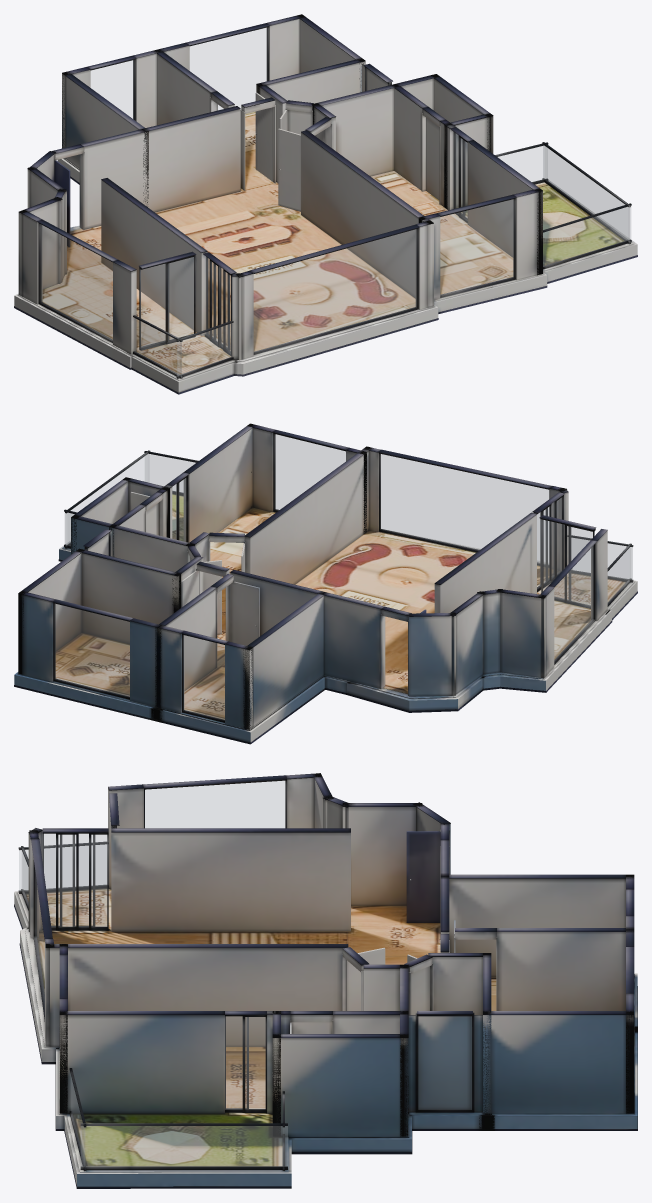
3 renders of one model, top to bottom at view 1: azimuth 30°, elevation 25°; view 2: azimuth 150°, elevation 25°; view 3: azimuth 270°, elevation 25°, orthographic. The views are drawn at different scales.
Visible parts, largest first — view 1: plan, glass5_m, glass4_m, glass6_m, glass1_m, glass7_m, railg4_m, railg3_m, railg0_m, glass0_m, railg1_m, glass8_m (+2 smaller); view 2: plan, glass5_m, glass1_m, glass0_m, glass4_m, glass7_m, glass6_m, glass8_m, railg4_m, railg3_m, railg0_m, railg1_m (+1 smaller); view 3: plan, railg3_m, glass6_m, glass8_m, glass2_m, glass3_m, railg1_m, glass5_m.
Boxes of the visible parts, <box> form: plan: <box>14,14,637,394</box>; glass5_m: <box>254,229,416,351</box>; glass4_m: <box>440,199,513,294</box>; glass6_m: <box>41,225,112,339</box>; glass1_m: <box>190,28,267,109</box>; glass7_m: <box>140,257,193,347</box>; railg4_m: <box>543,207,630,266</box>; railg3_m: <box>543,146,629,241</box>; railg0_m: <box>177,323,231,375</box>; glass0_m: <box>91,60,133,118</box>; railg1_m: <box>134,318,181,375</box>; glass8_m: <box>206,257,230,351</box>; plan: <box>14,423,637,744</box>; glass5_m: <box>380,454,548,562</box>; glass1_m: <box>55,604,129,696</box>; glass0_m: <box>183,635,224,720</box>; glass4_m: <box>275,434,345,510</box>; glass7_m: <box>541,519,592,605</box>; glass6_m: <box>554,546,593,660</box>; glass8_m: <box>537,498,561,588</box>; railg4_m: <box>145,454,195,492</box>; railg3_m: <box>66,454,148,545</box>; railg0_m: <box>572,538,632,579</box>; railg1_m: <box>608,547,630,602</box>; plan: <box>14,773,637,1188</box>; railg3_m: <box>81,1126,287,1166</box>; glass6_m: <box>145,781,285,827</box>; glass8_m: <box>43,834,106,926</box>; glass2_m: <box>419,1017,471,1109</box>; glass3_m: <box>225,1016,265,1109</box>; railg1_m: <box>19,845,106,890</box>; glass5_m: <box>35,875,44,1005</box>.
Size of the model in its own units: 14.8 by 2.62 by 12.89.
Materials: 2 (1 with a texture image).
